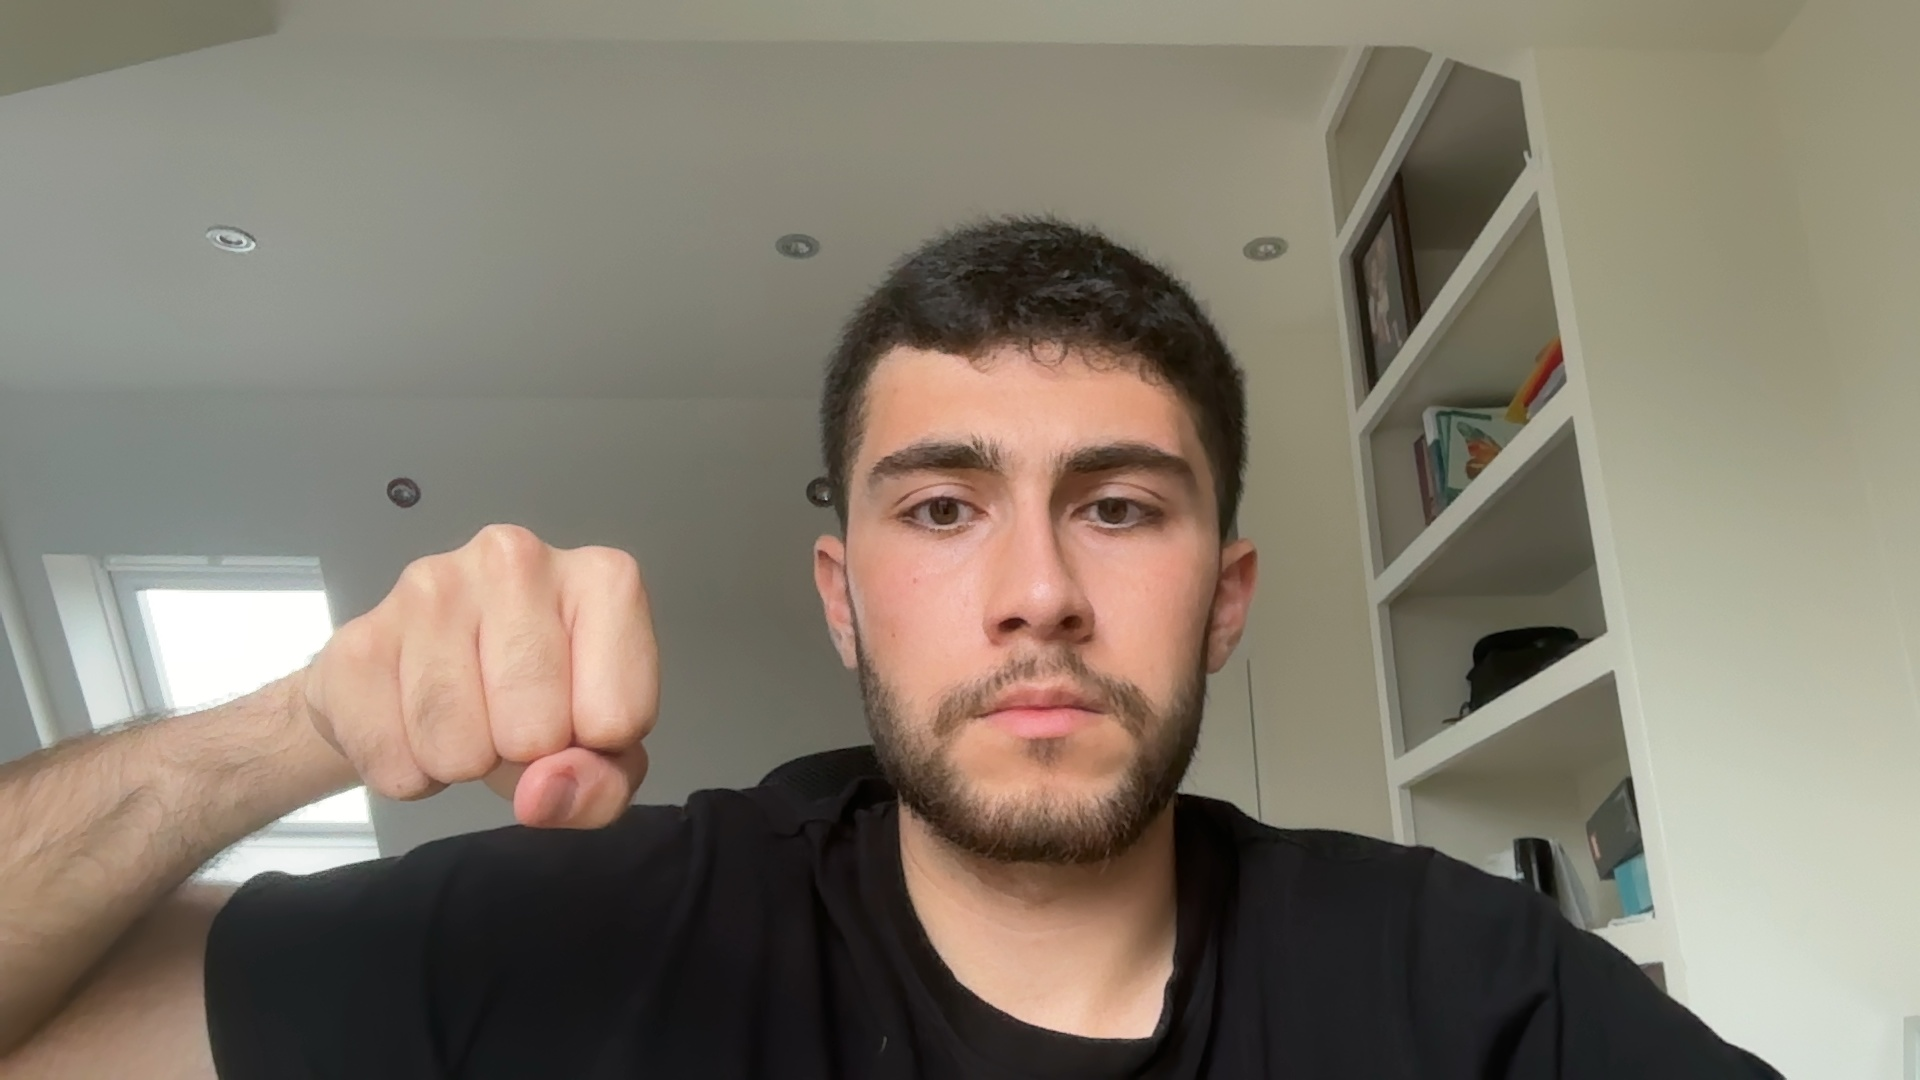yes: (290, 512, 723, 855)
